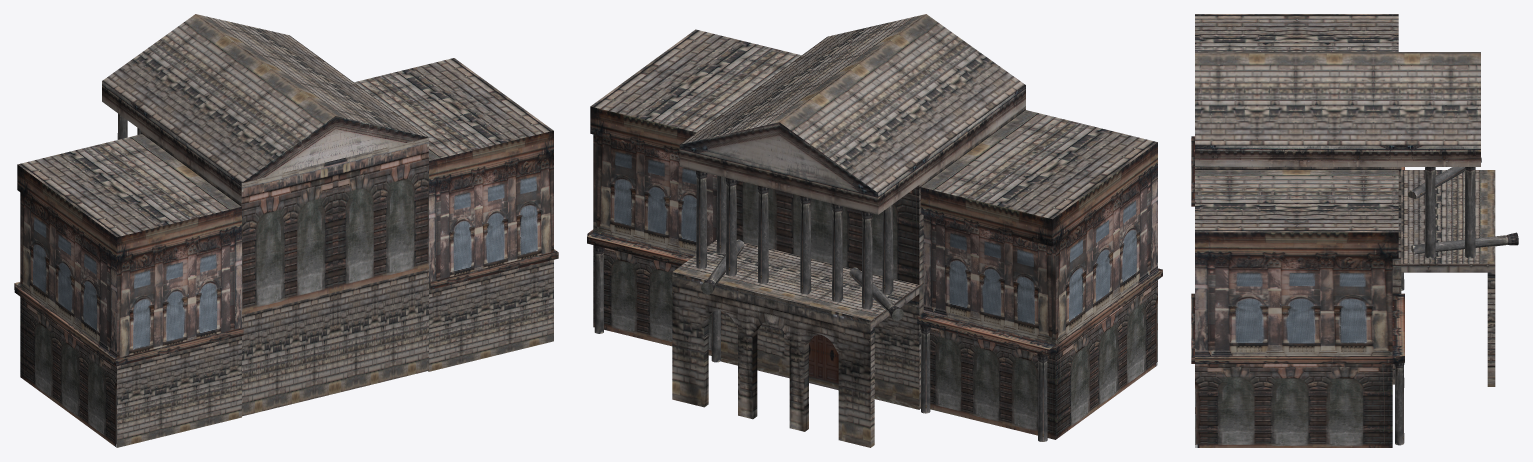
File: building15.obj
The picture shows the model from 3 angles, left to right: view 1: azimuth 30°, elevation 25°; view 2: azimuth 150°, elevation 25°; view 3: azimuth 270°, elevation 25°; orthographic projection. The views are drawn at different scales.
Visible parts, largest first — view 1: building15; view 2: building15; view 3: building15.
Part boxes in pixels (left/top/right/bottom): building15: left=14, top=14, right=558, bottom=447; building15: left=587, top=14, right=1162, bottom=447; building15: left=1191, top=14, right=1518, bottom=447.
Size of the model in its own units: 772 by 466 by 483.
Materials: 1 (1 with a texture image).
